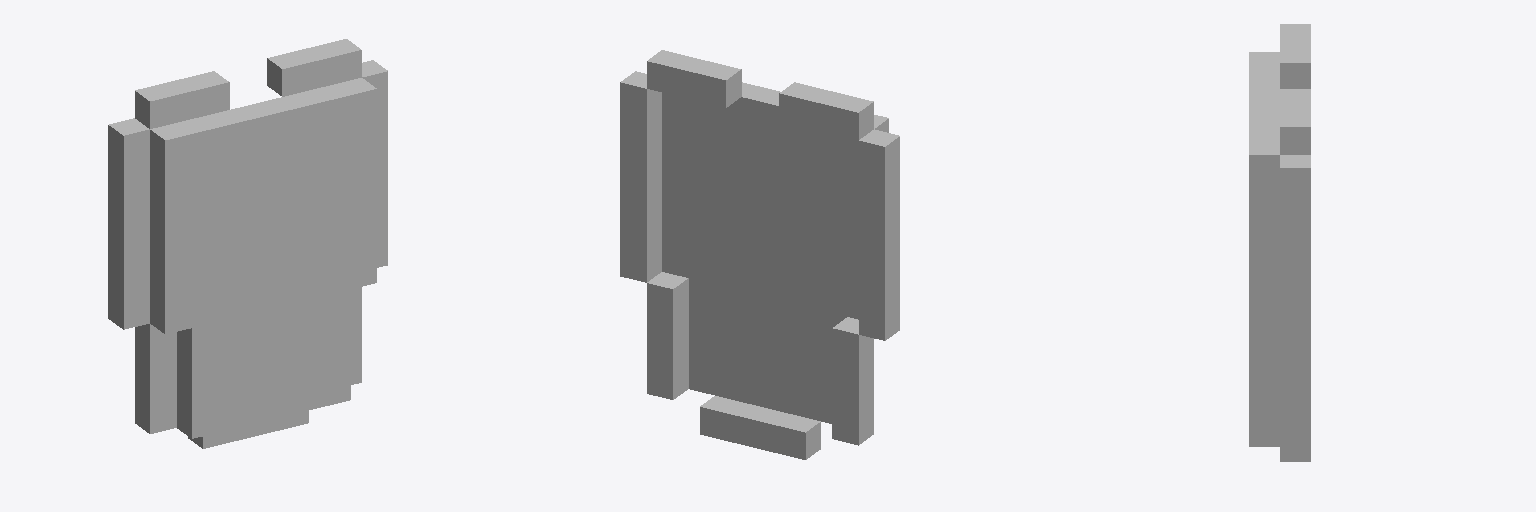
The model's file is Shield_01.obj.
3 renders of one model, left to right at view 1: azimuth 30°, elevation 25°; view 2: azimuth 150°, elevation 25°; view 3: azimuth 270°, elevation 25°, orthographic.
Parts seen in each view (by area): view 1: Shield_01.002; view 2: Shield_01.002; view 3: Shield_01.002.
Boxes of the visible parts, <box> form: Shield_01.002: <box>108,39,387,448</box>; Shield_01.002: <box>620,50,899,459</box>; Shield_01.002: <box>1249,24,1310,461</box>.
Size of the model in its own units: 1 by 1.3 by 0.2.